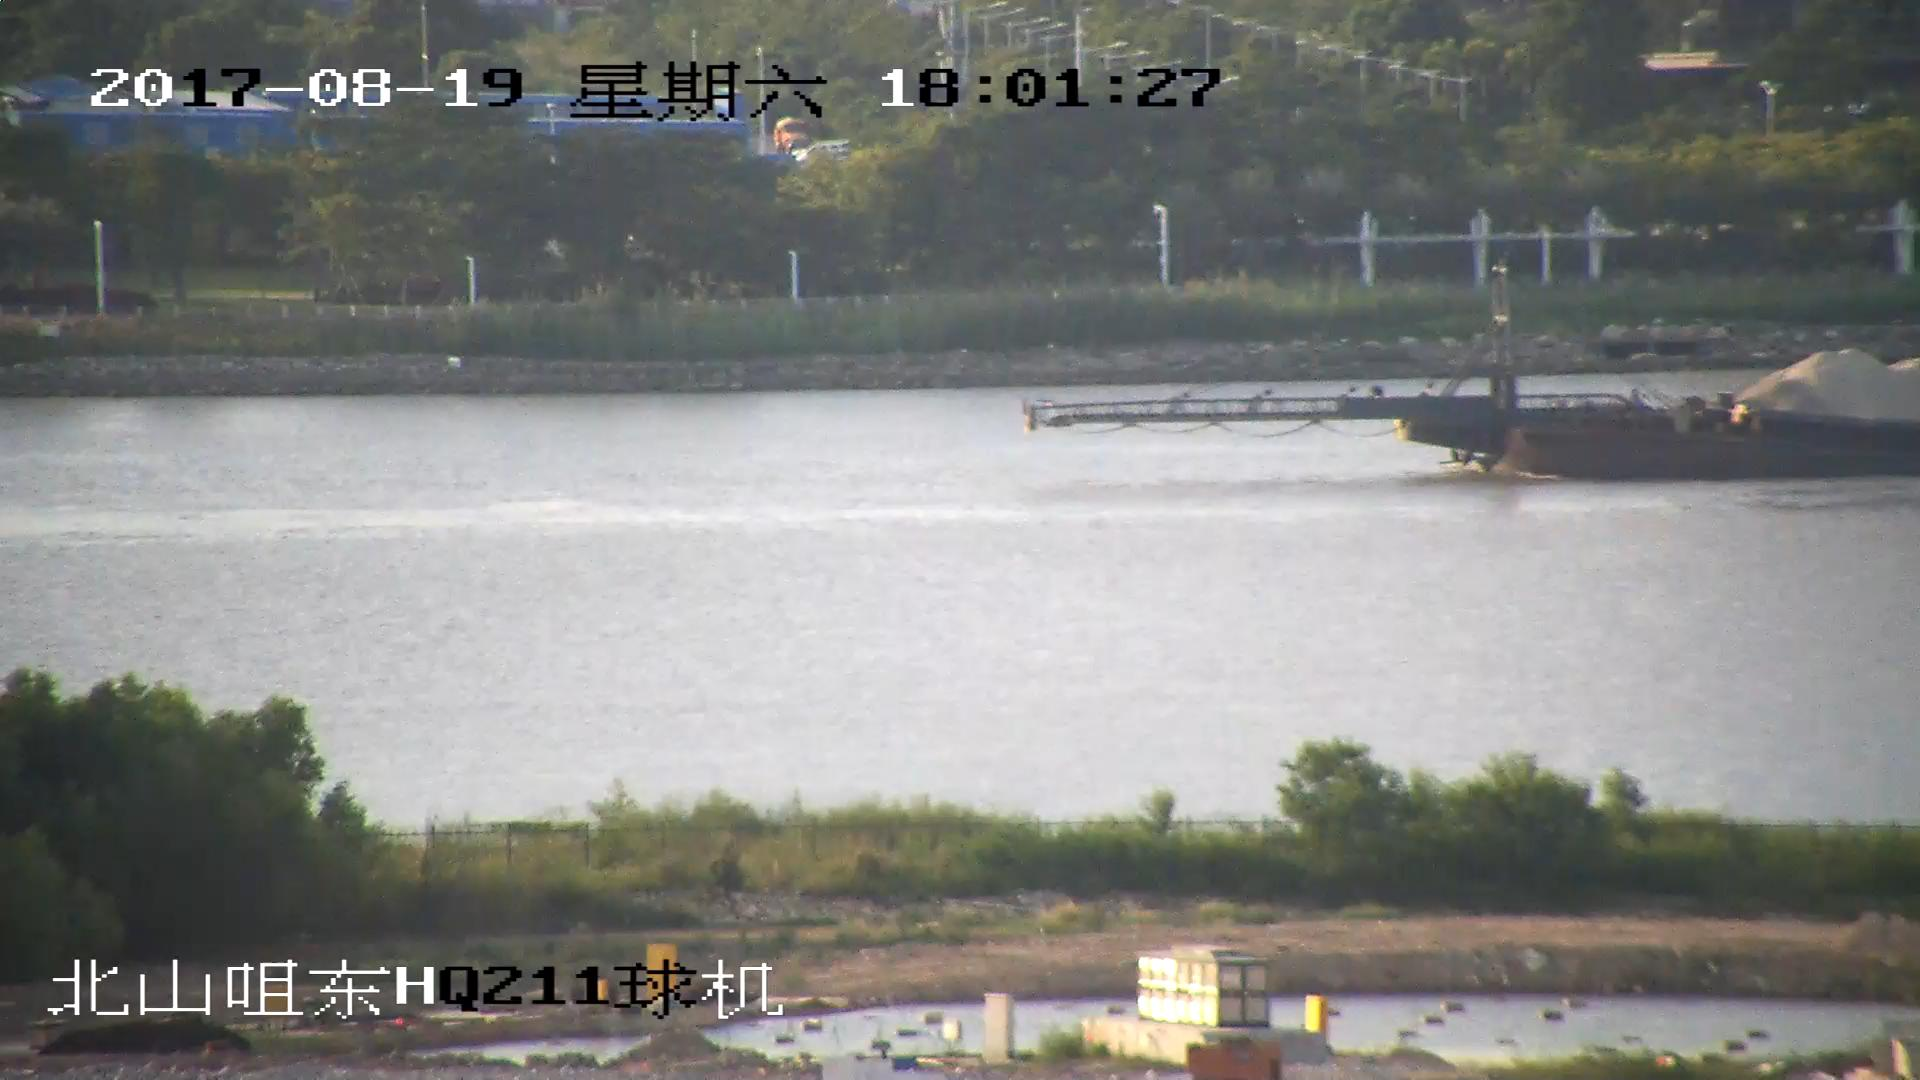ore carrier: (1026, 268, 1920, 489)
